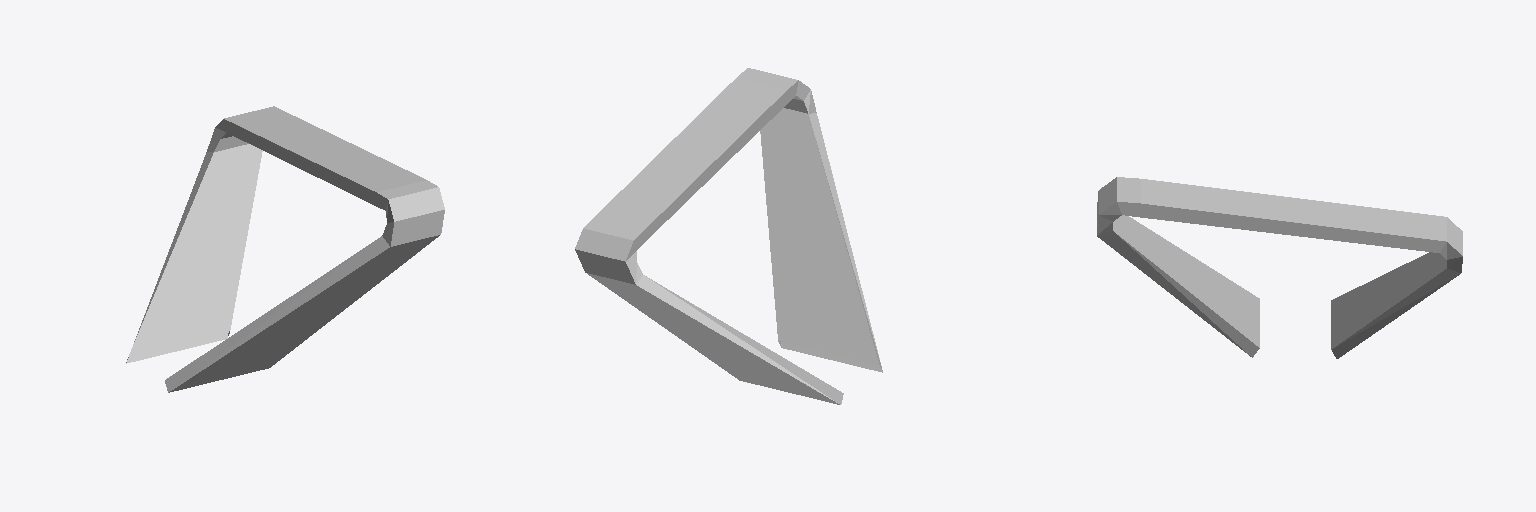
Rendered from original-18.obj.
3 renders of one model, left to right at view 1: azimuth 30°, elevation 25°; view 2: azimuth 150°, elevation 25°; view 3: azimuth 270°, elevation 25°, orthographic.
Parts seen in each view (by area): view 1: mesh17/mesh17-geometry#mesh17-geometry; view 2: mesh17/mesh17-geometry#mesh17-geometry; view 3: mesh17/mesh17-geometry#mesh17-geometry.
Part boxes in pixels (bbox=[...]): mesh17/mesh17-geometry#mesh17-geometry: bbox=[126, 106, 444, 392]; mesh17/mesh17-geometry#mesh17-geometry: bbox=[575, 68, 882, 404]; mesh17/mesh17-geometry#mesh17-geometry: bbox=[1097, 177, 1462, 358].
Size of the model in its own units: 0.1837 by 0.1794 by 0.287.